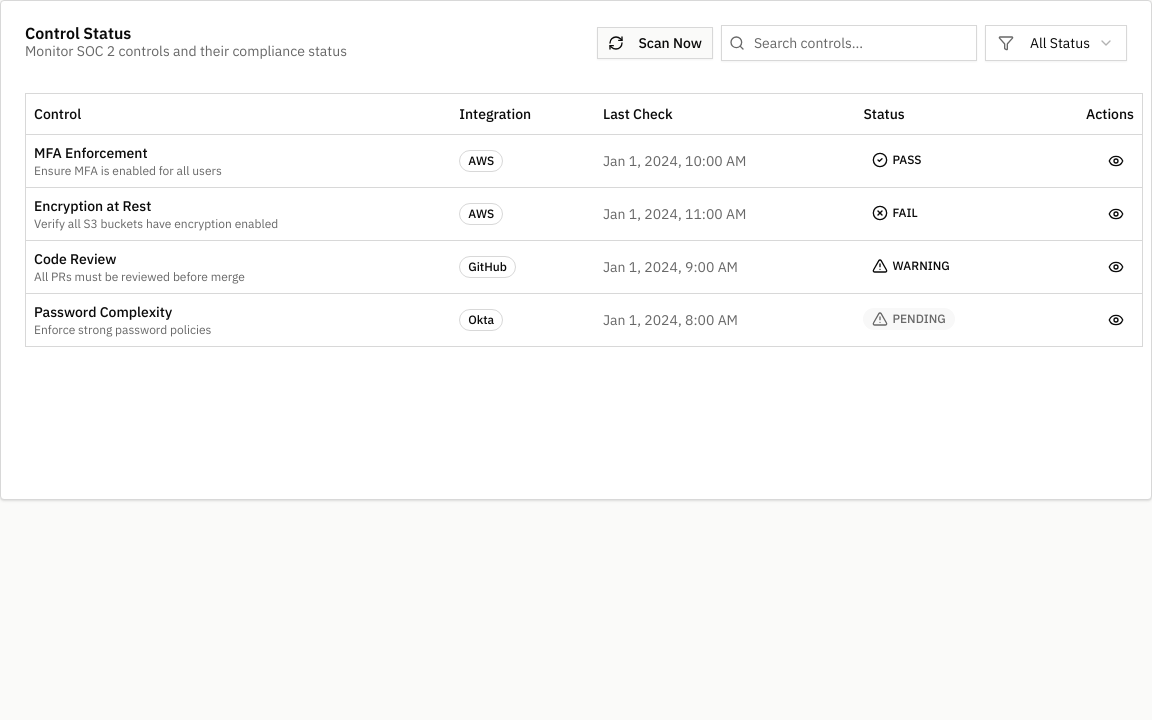
Scenario: ControlStatus › Search Functionality › should filter controls by description
The image size is (1152, 720).
Type "S3 buckets" into the field with placeholder "Search controls..." at (849, 43), box [721, 25, 977, 61]
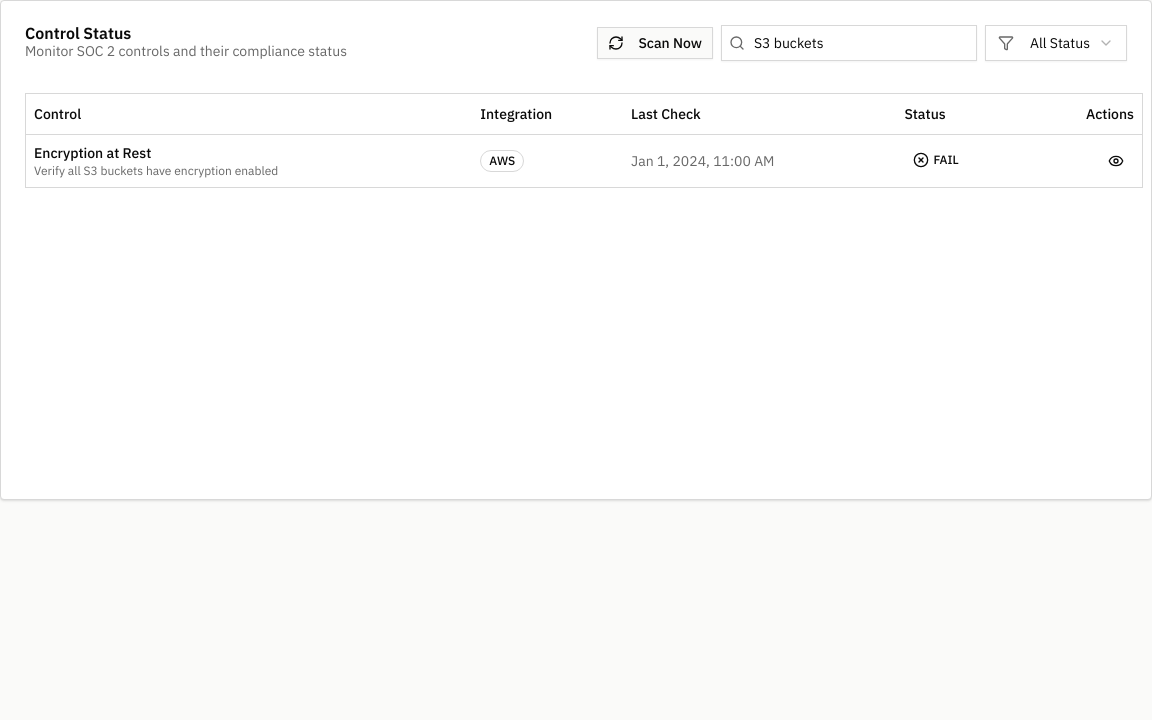
Expected: the text "Encryption at Rest" is shown, [34, 144, 151, 162]
Now the text "MFA Enforcement" is gone
